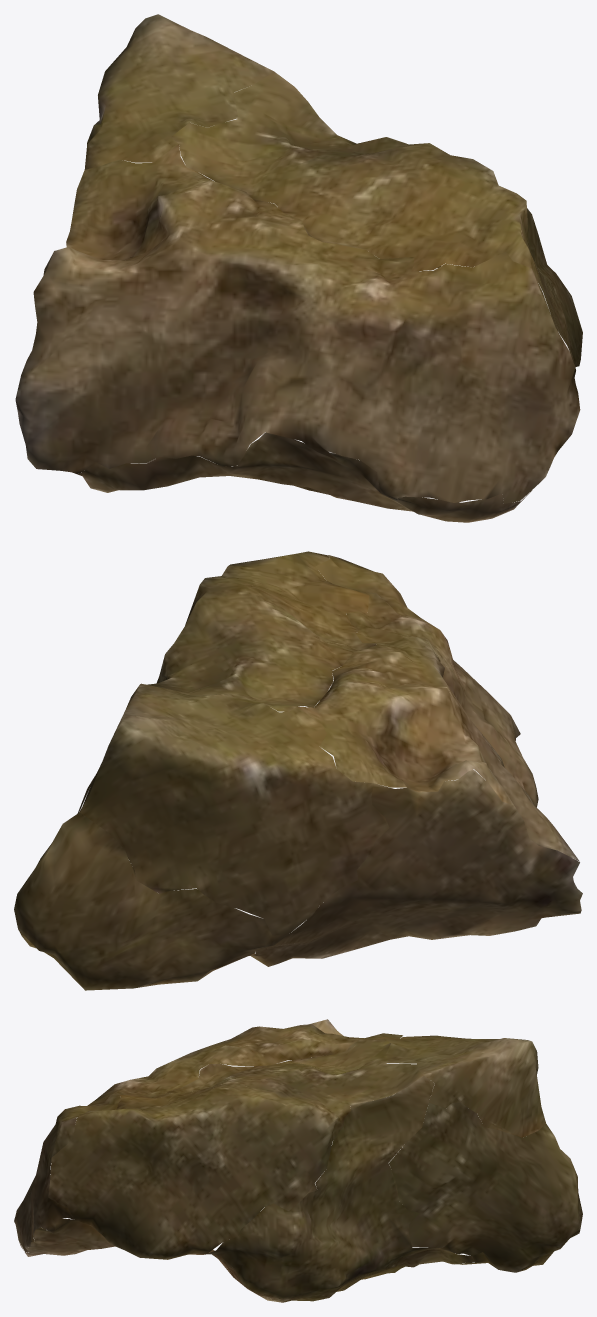
File: rock-moss-set-01-rock06.glb
3 renders of one model, top to bottom at view 1: azimuth 30°, elevation 25°; view 2: azimuth 150°, elevation 25°; view 3: azimuth 270°, elevation 25°, orthographic. The views are drawn at different scales.
Visible parts, largest first — view 1: rock_moss_set_01_rock06; view 2: rock_moss_set_01_rock06; view 3: rock_moss_set_01_rock06.
Part boxes in pixels (x1,y1,x2,y2): rock_moss_set_01_rock06: (15,14,582,522); rock_moss_set_01_rock06: (14,551,582,990); rock_moss_set_01_rock06: (14,1019,582,1302).
Size of the model in its own units: 2.13 by 1.26 by 2.76.
Materials: 1 (1 with a texture image).
